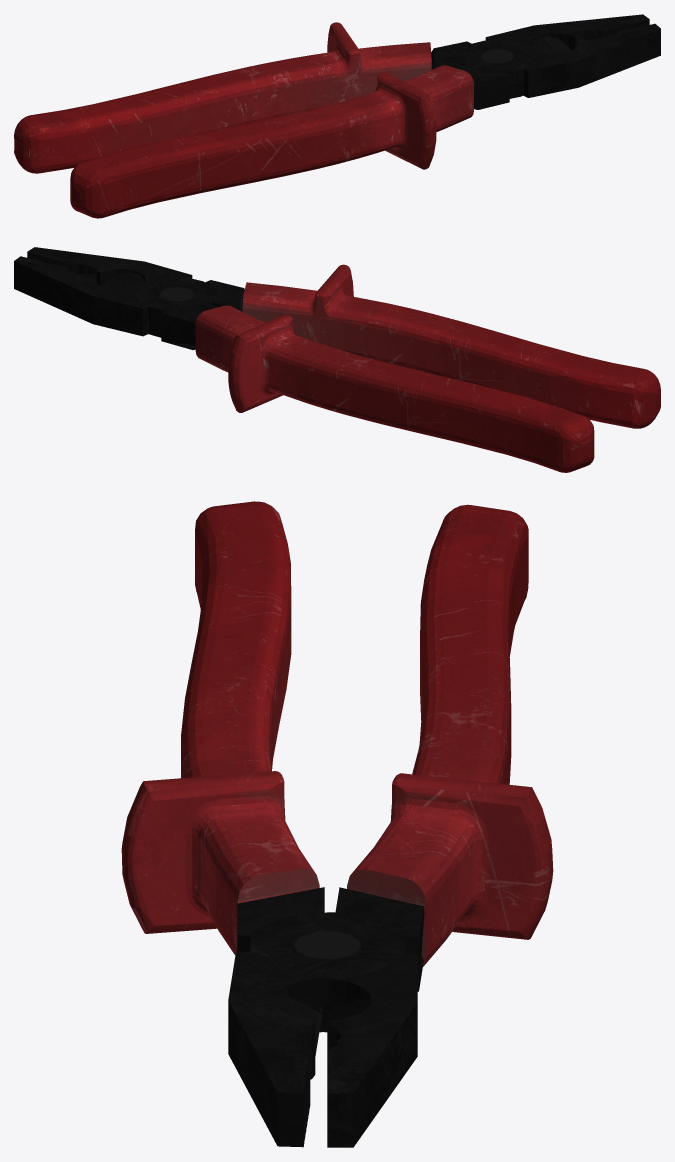
File: Pinza.obj
3 views of the same model, one above another, from view 1: azimuth 30°, elevation 25°; view 2: azimuth 150°, elevation 25°; view 3: azimuth 270°, elevation 25° (orthographic). The views are drawn at different scales.
Visible parts, largest first — view 1: Fillet001; view 2: Fillet001; view 3: Fillet001.
Boxes of the visible parts, box(x1,y1,x2,y2) form: Fillet001: box(14, 14, 660, 218); Fillet001: box(14, 247, 660, 472); Fillet001: box(121, 501, 553, 1147).
Bounding box in the file's own units: 7.28 × 0.8661 × 2.28.
